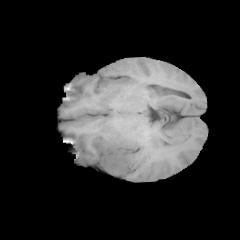glioma: (97, 141, 141, 177)
